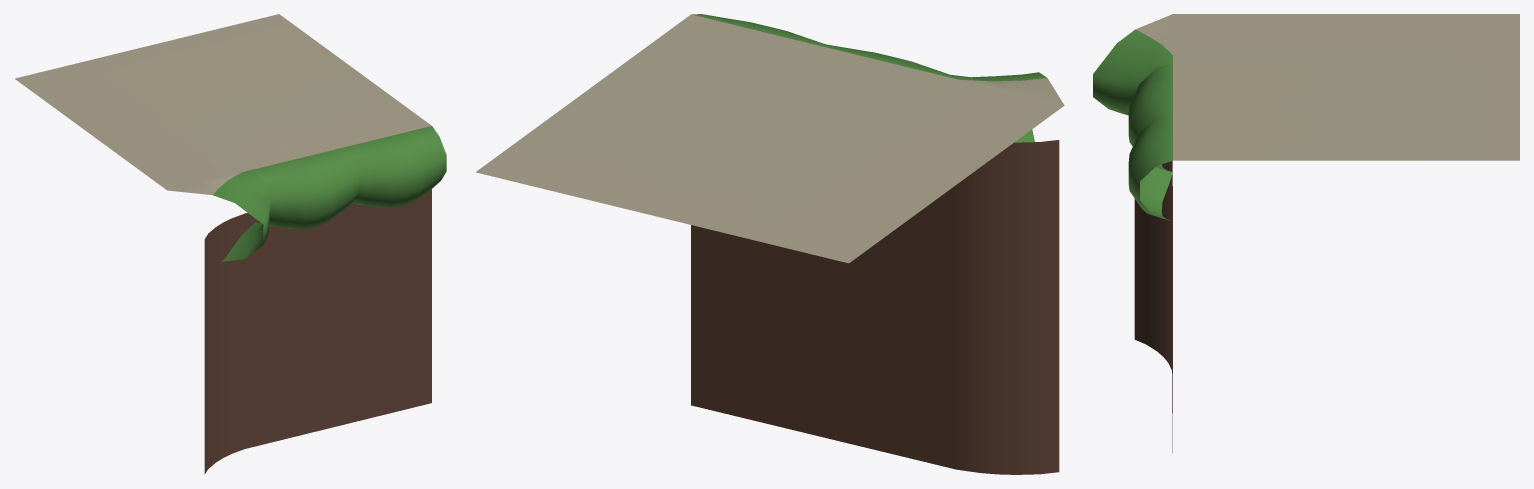
Rendered from ForestTile_InnerCornerB.fbx.
The picture shows the model from 3 angles, left to right: view 1: azimuth 30°, elevation 25°; view 2: azimuth 150°, elevation 25°; view 3: azimuth 270°, elevation 25°; orthographic projection. The views are drawn at different scales.
Visible parts, largest first — view 1: ForestTile_InnerCornerB; view 2: ForestTile_InnerCornerB; view 3: ForestTile_InnerCornerB.
Boxes of the visible parts, <box> form: ForestTile_InnerCornerB: <box>15,14,446,474</box>; ForestTile_InnerCornerB: <box>476,14,1064,474</box>; ForestTile_InnerCornerB: <box>1093,14,1519,452</box>.
Bounding box in the file's own units: 90 × 90.15 × 111.
